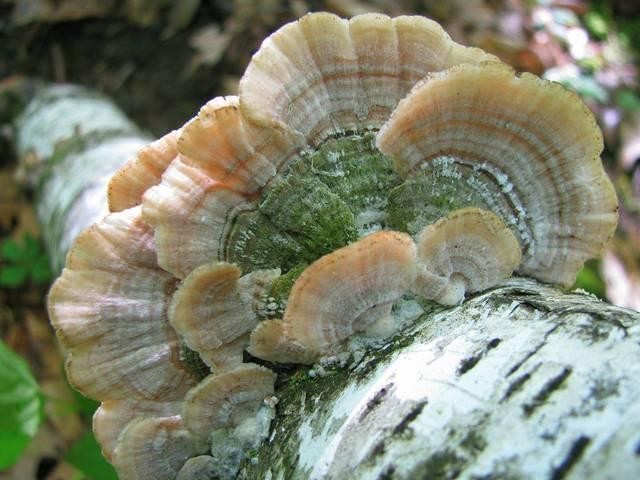Non-edible Mushroom: (43, 10, 621, 478)
